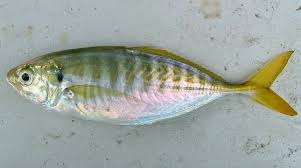Ikan Selar: (8, 47, 293, 123)
